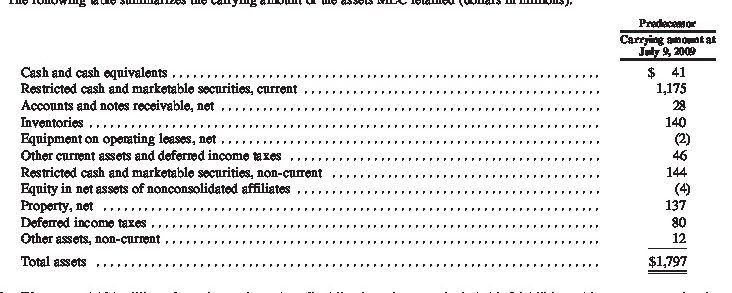table: (0, 0, 732, 293)
